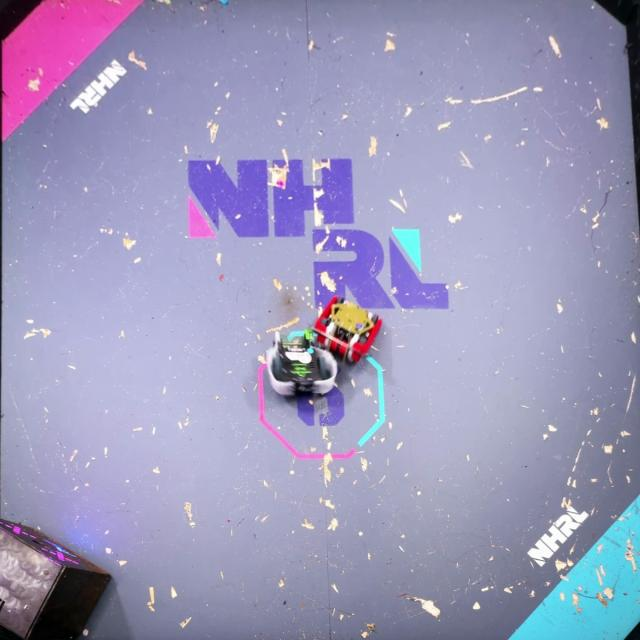housebot: (0, 517, 112, 640)
robot: (312, 292, 384, 366), (266, 328, 340, 399)
